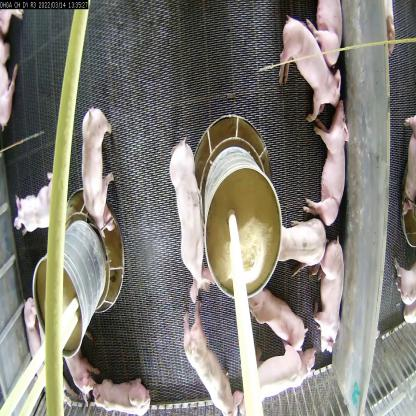Pig: (167, 122, 210, 304), (273, 0, 342, 111), (176, 307, 242, 415), (309, 106, 355, 234), (75, 94, 119, 227), (241, 271, 312, 348), (313, 234, 347, 358), (12, 176, 67, 242), (23, 284, 50, 392)
